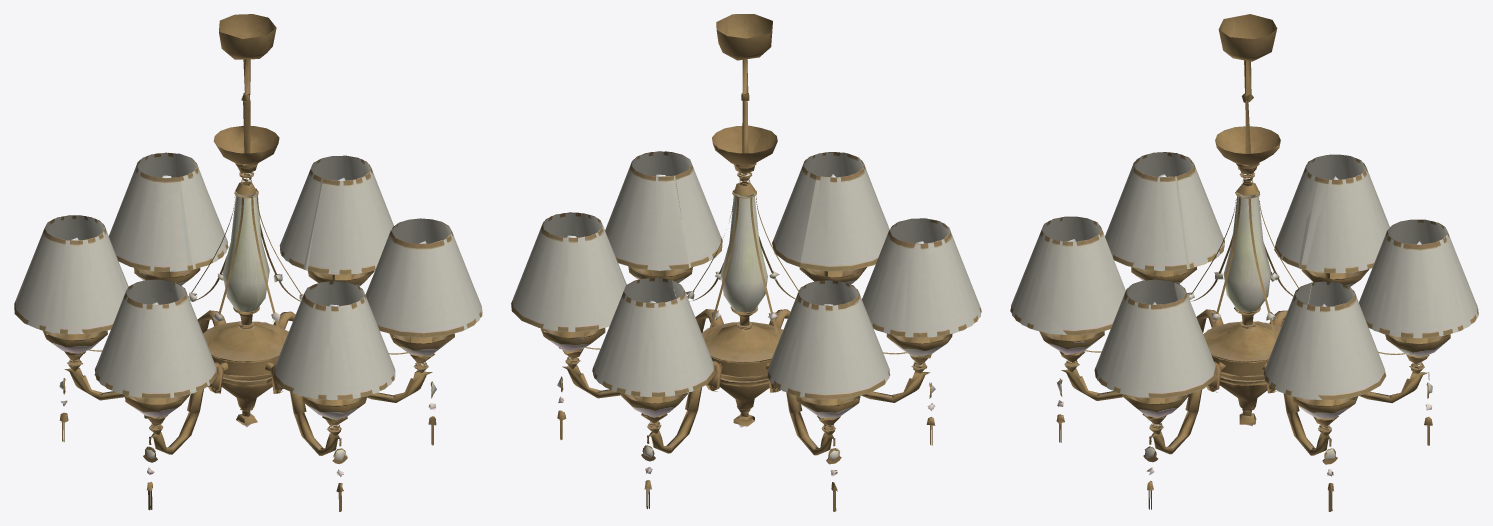
The model's file is ph_Chandelier_01.glb.
3 views of the same model, side by side, from view 1: azimuth 30°, elevation 25°; view 2: azimuth 150°, elevation 25°; view 3: azimuth 270°, elevation 25° (orthographic).
Visible parts, largest first — view 1: Chandelier_01; view 2: Chandelier_01; view 3: Chandelier_01.
Part boxes in pixels (x1,y1,x2,y2): Chandelier_01: (14, 14, 482, 511); Chandelier_01: (511, 14, 981, 511); Chandelier_01: (1010, 14, 1478, 511).
Bounding box in the file's own units: 0.7466 × 0.7983 × 0.8159.
2 materials, 1 textured.
